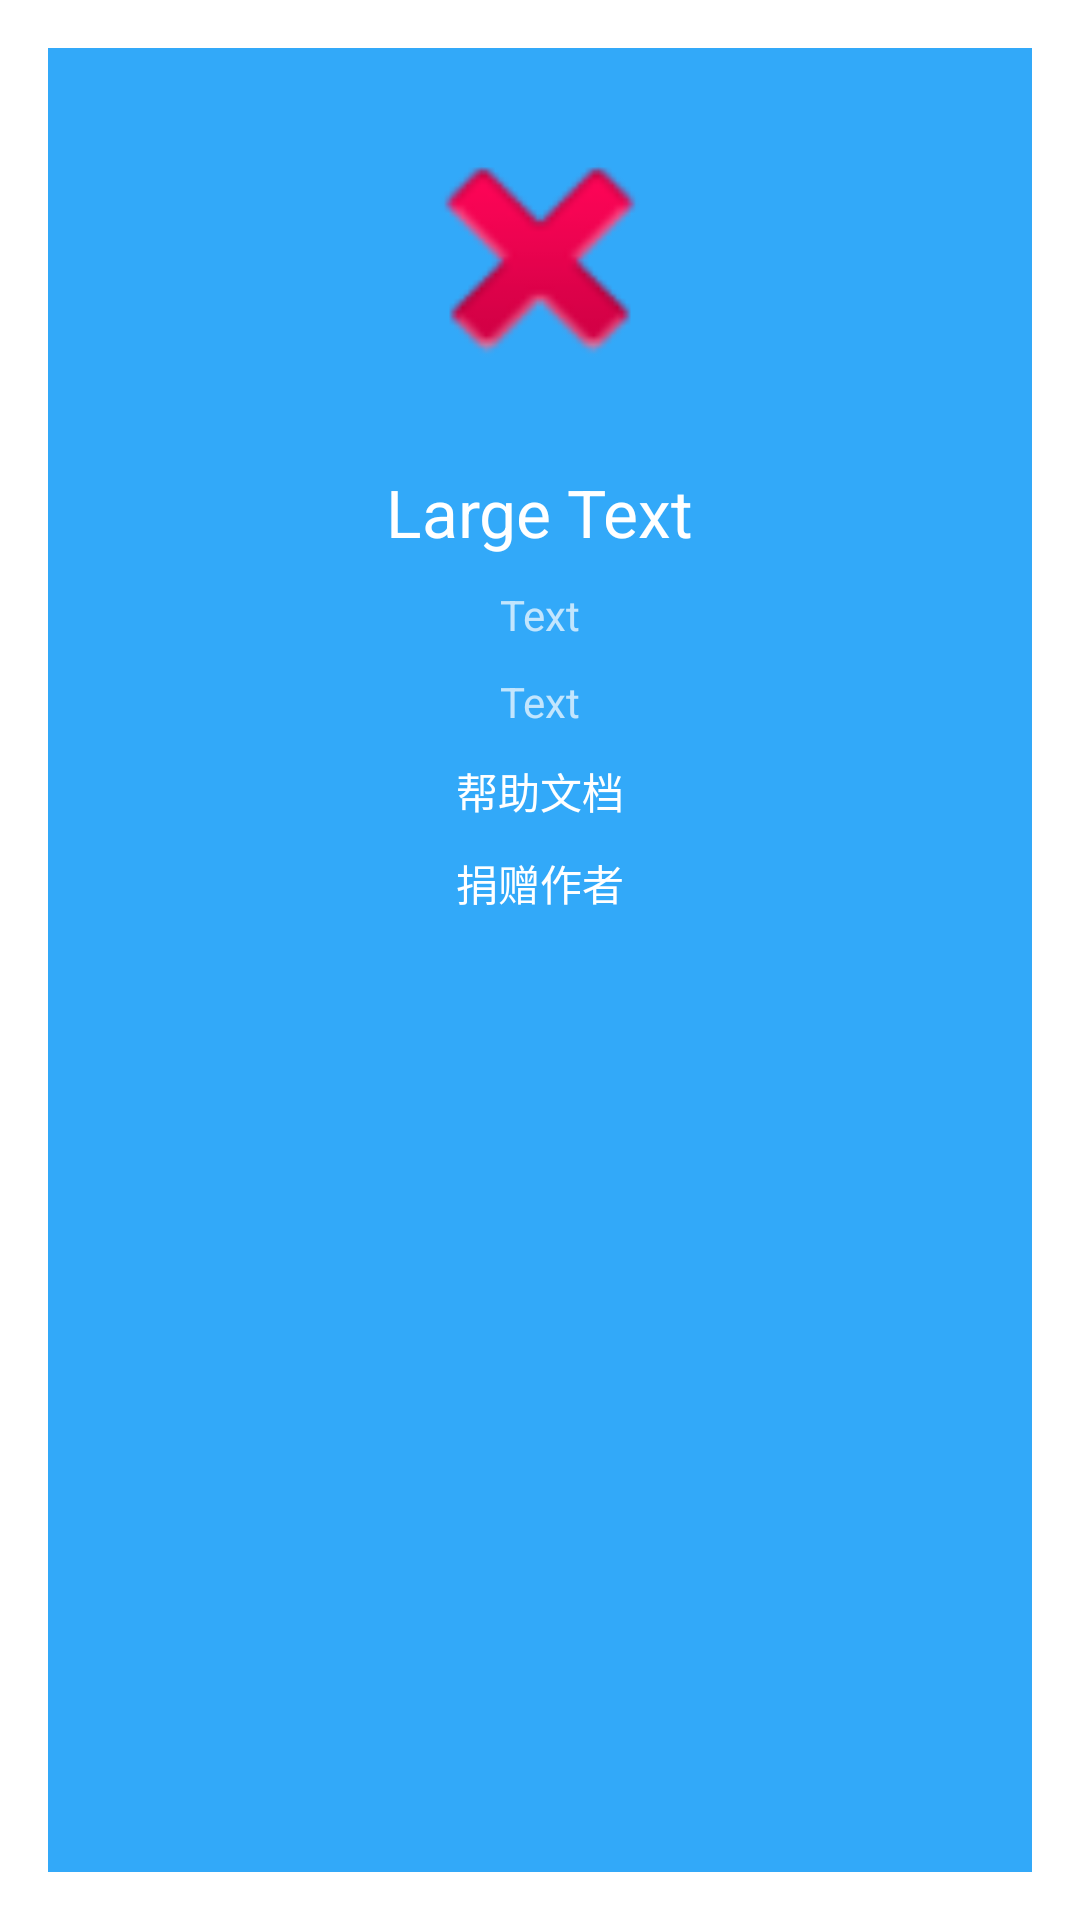

Screen size 1080 × 1920. Icon name, then its center in pixels as (x=x, y=y):
delete: (x=540, y=259)
